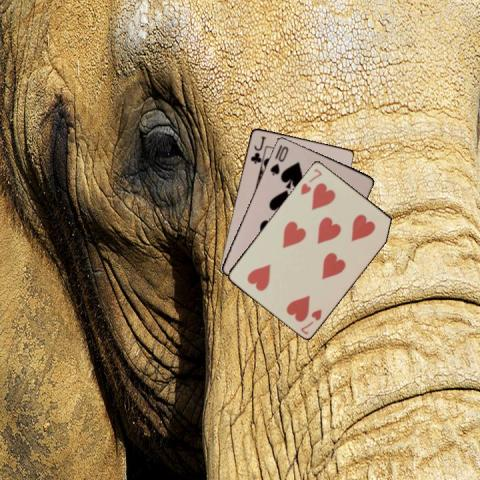10s: (267, 143, 290, 176)
7h: (298, 165, 324, 196), (298, 306, 324, 335)
Jc: (247, 133, 266, 165)
